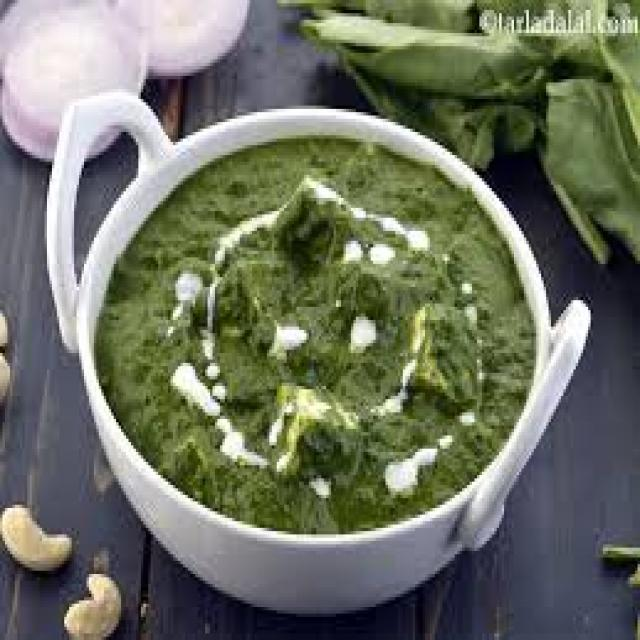Palak Paneer: (95, 135, 541, 540)
